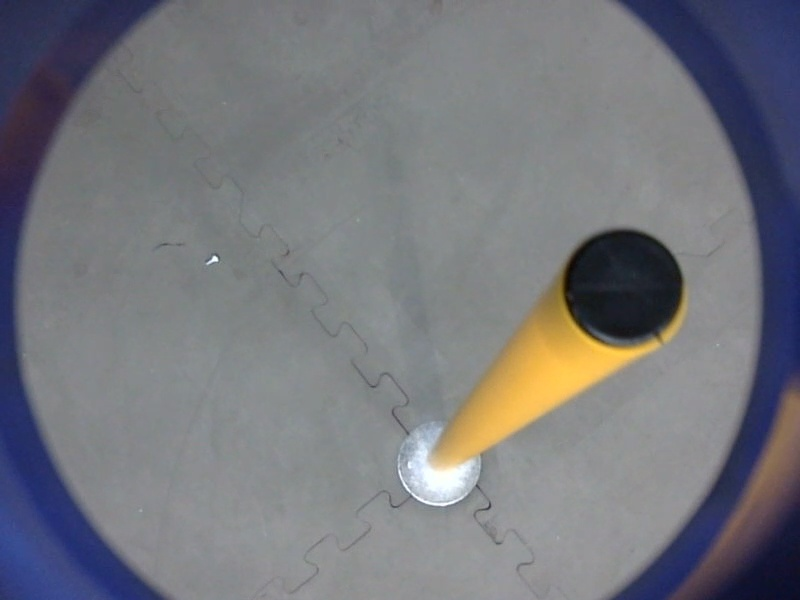tip: (555, 223, 693, 353)
